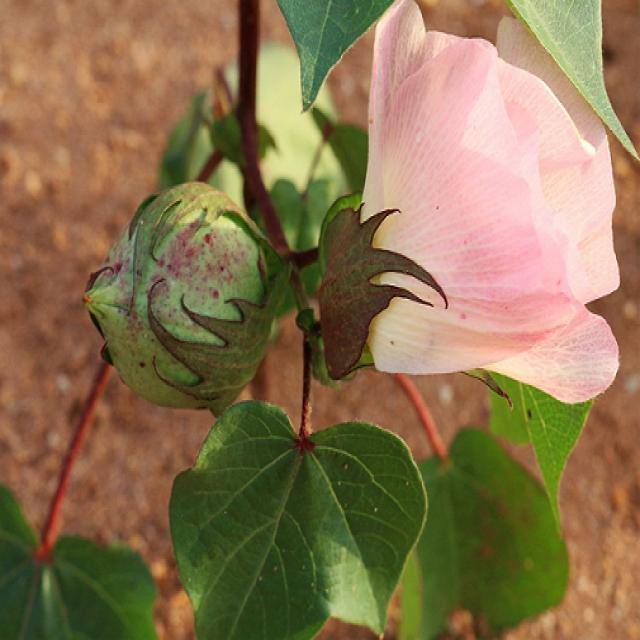Cotton Blossom: (315, 0, 622, 414)
Early Boll: (75, 175, 299, 429)
